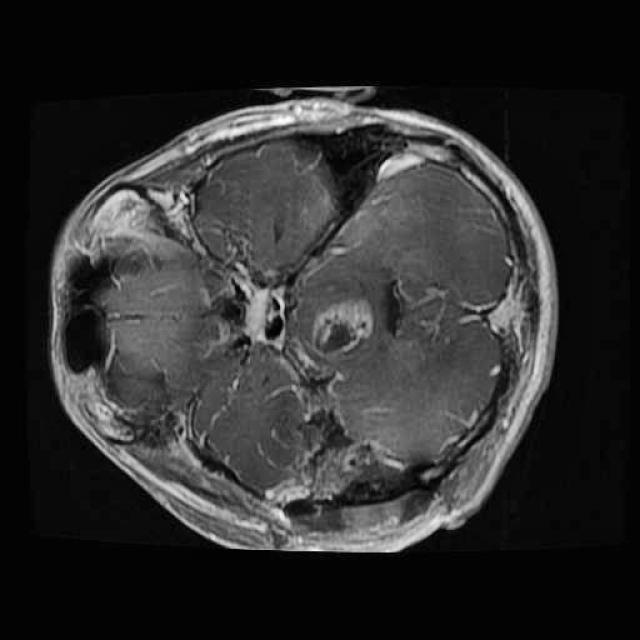Non-Tumor: (302, 292, 381, 366)
